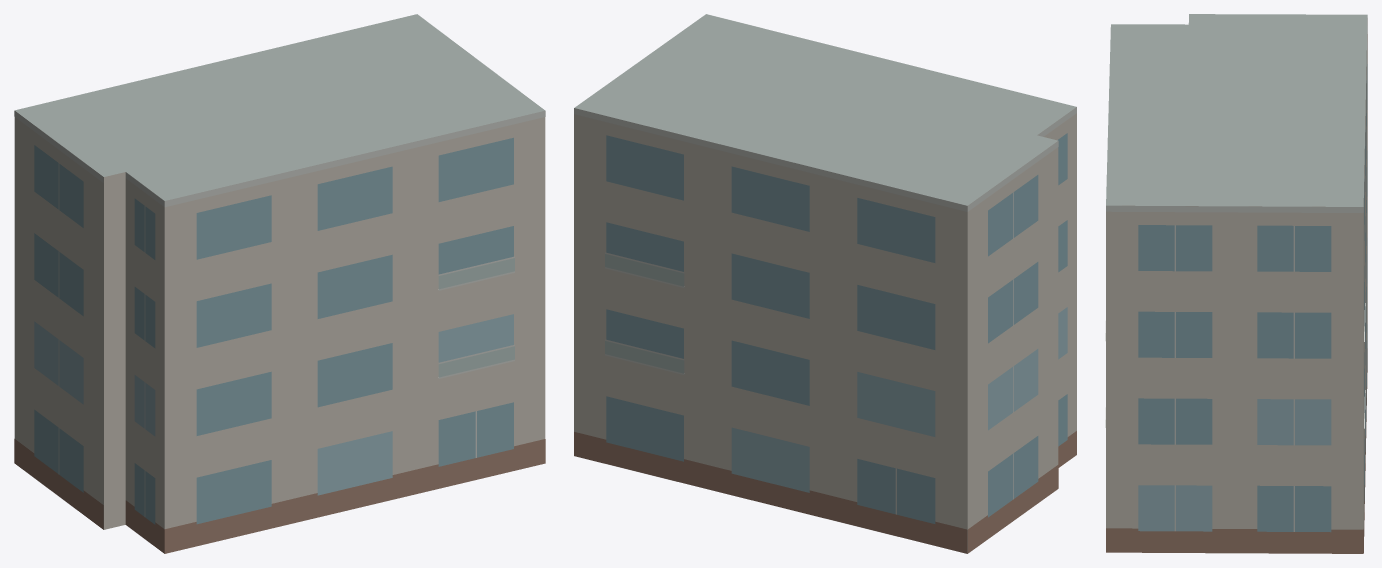
The model's file is survey-upis-32598744.glb.
The picture shows the model from 3 angles, left to right: view 1: azimuth 30°, elevation 25°; view 2: azimuth 150°, elevation 25°; view 3: azimuth 270°, elevation 25°; orthographic projection.
Visible parts, largest first — view 1: survey-upis-32598744.tmp; view 2: survey-upis-32598744.tmp; view 3: survey-upis-32598744.tmp.
Boxes of the visible parts, x1,y1,x2,y2 form: survey-upis-32598744.tmp: (14,14,545,553); survey-upis-32598744.tmp: (574,14,1076,553); survey-upis-32598744.tmp: (1105,14,1367,553).
Bounding box in the file's own units: 16.41 × 13.75 × 9.43.
